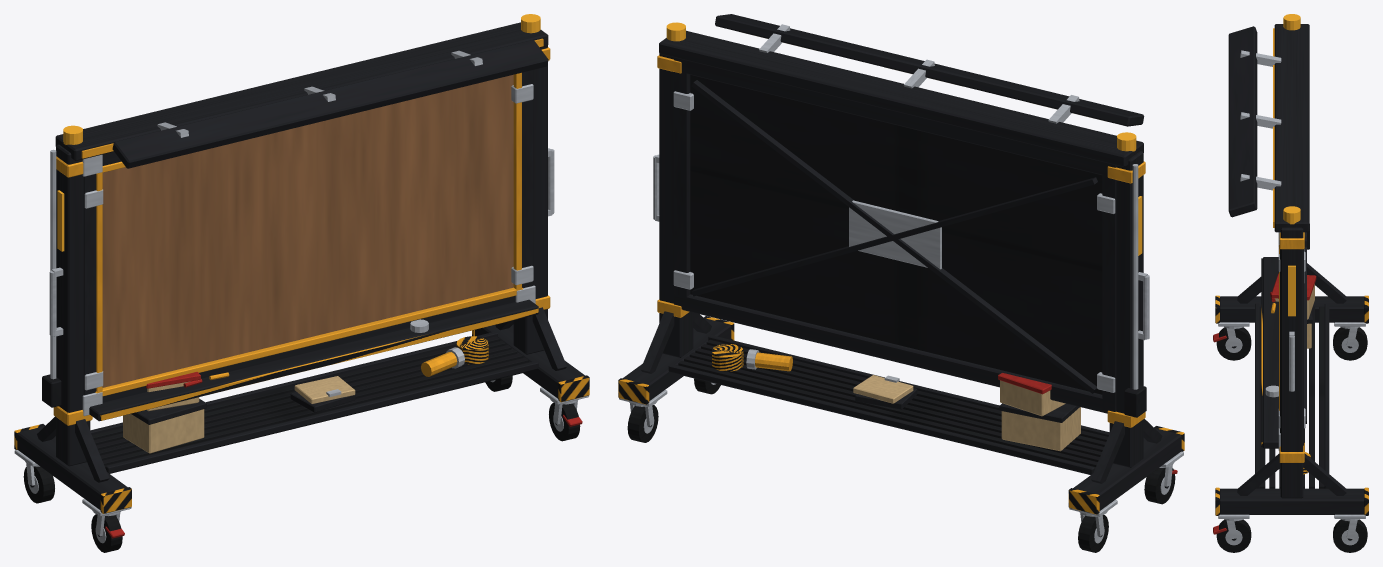
Rendered from BlenderEncounterBoard.fbx.
3 views of the same model, side by side, from view 1: azimuth 30°, elevation 25°; view 2: azimuth 150°, elevation 25°; view 3: azimuth 270°, elevation 25° (orthographic). The views are drawn at different scales.
Parts seen in each view (by area): view 1: EncounterBoard_Main, EncounterBoard_LightsAmber; view 2: EncounterBoard_Main, EncounterBoard_LightsAmber; view 3: EncounterBoard_Main, EncounterBoard_LightsAmber.
Part boxes in pixels (x1,y1,x2,y2): EncounterBoard_Main: (14, 22, 589, 552); EncounterBoard_LightsAmber: (57, 14, 540, 251); EncounterBoard_Main: (618, 14, 1184, 552); EncounterBoard_LightsAmber: (666, 22, 1142, 255); EncounterBoard_Main: (1213, 24, 1368, 552); EncounterBoard_LightsAmber: (1283, 14, 1300, 316).
Bounding box in the file's own units: 15.07 × 11.32 × 4.69.
1 material, 1 textured.
